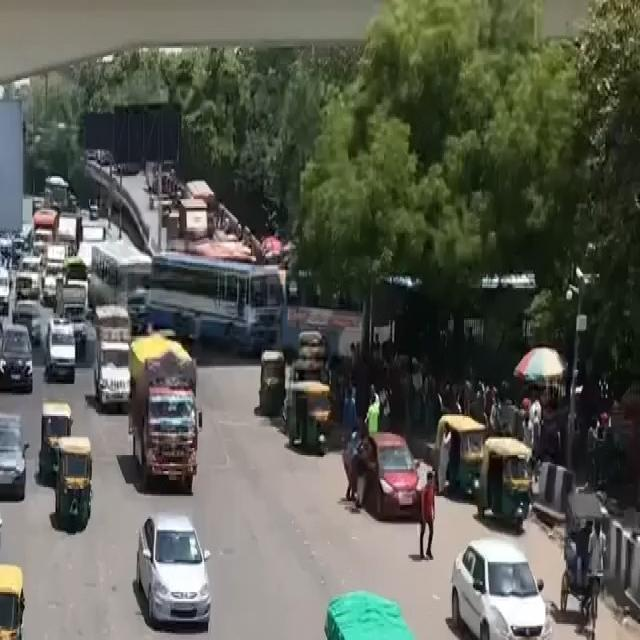car: (438, 521, 567, 640), (126, 496, 222, 640), (84, 334, 138, 416), (0, 402, 35, 506), (43, 311, 86, 384), (0, 324, 36, 396), (0, 466, 8, 597)
rickshaw: (45, 426, 101, 540), (0, 551, 36, 640)
van: (119, 316, 213, 502), (309, 588, 459, 640)
